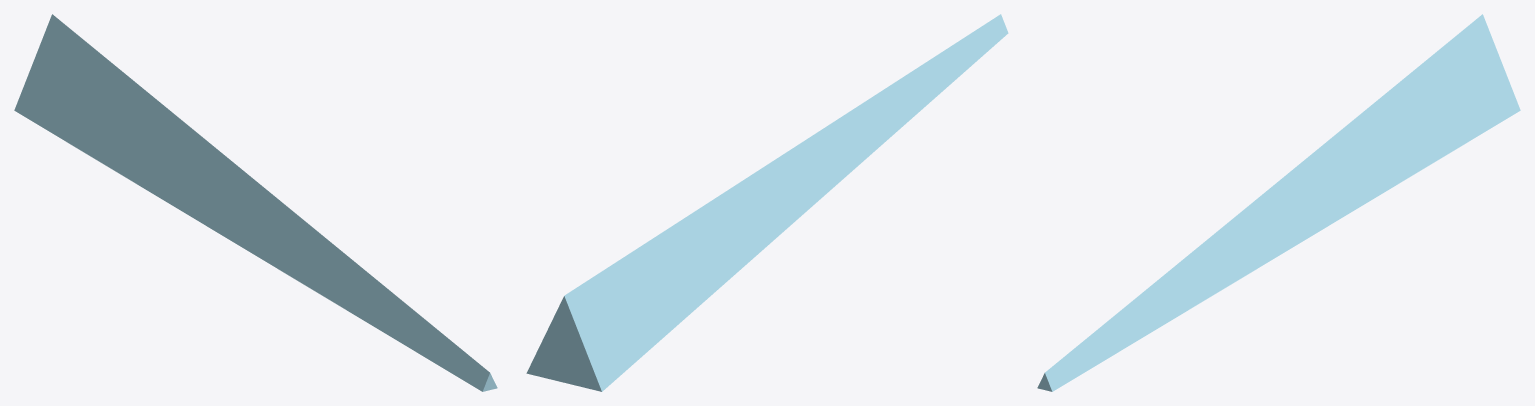
File: rain-drop.gltf
3 views of the same model, side by side, from view 1: azimuth 30°, elevation 25°; view 2: azimuth 150°, elevation 25°; view 3: azimuth 330°, elevation 25° (orthographic).
Size of the model in its own units: 0.1 by 0.11 by 1.
